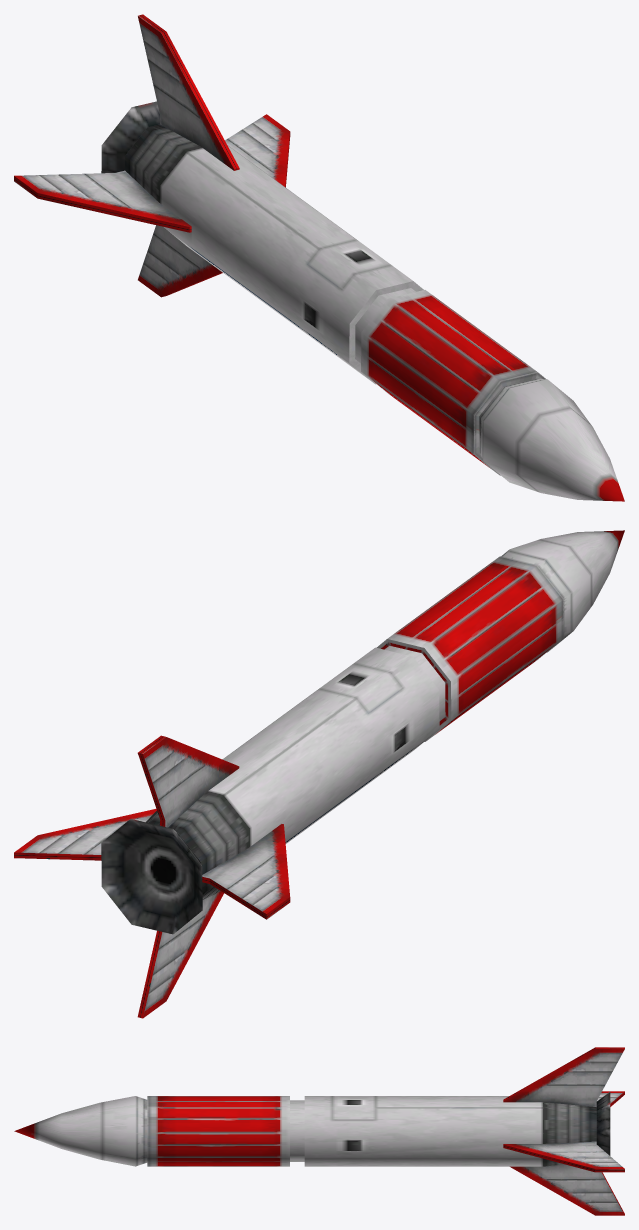
The model's file is wpn_missile_space_s02_l0.fbx.
The picture shows the model from 3 angles, top to bottom: view 1: azimuth 30°, elevation 25°; view 2: azimuth 150°, elevation 25°; view 3: azimuth 270°, elevation 25°; orthographic projection. The views are drawn at different scales.
Parts seen in each view (by area): view 1: mesh_node; view 2: mesh_node; view 3: mesh_node.
Boxes of the visible parts, x1,y1,x2,y2 form: mesh_node: (14,14,624,501); mesh_node: (14,530,624,1018); mesh_node: (14,1047,624,1215).
Bounding box in the file's own units: 0.6009 × 0.6009 × 2.
